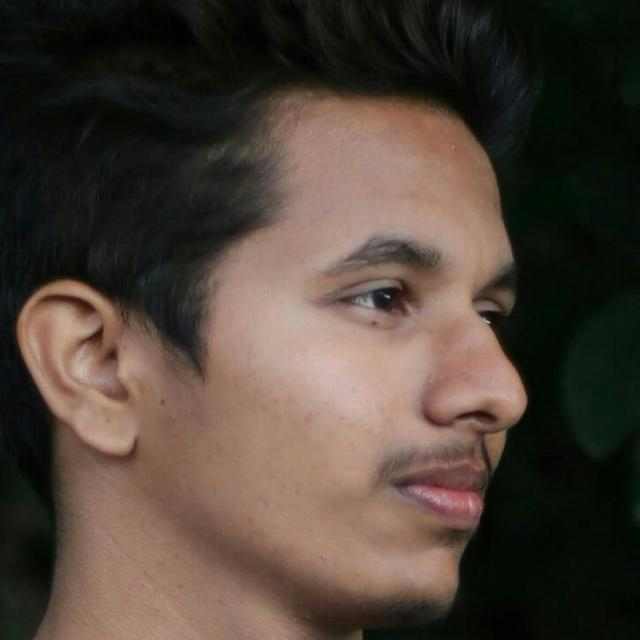front: (281, 242, 535, 560)
